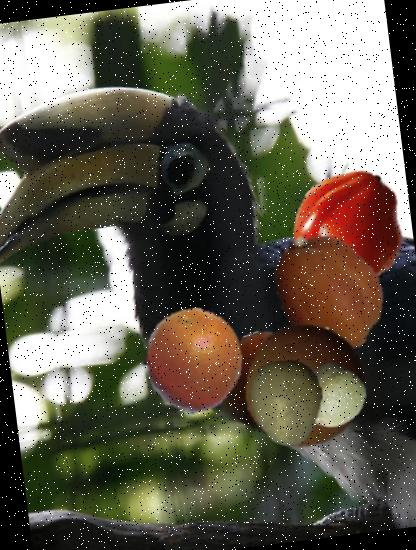Apricot: (260, 226, 396, 362)
Limes: (295, 360, 369, 434)
Nut: (206, 328, 313, 435)
Orange: (236, 317, 376, 456)
Pear: (235, 353, 340, 458)
Tangelo: (134, 301, 252, 420)
Tomato: (288, 163, 414, 290)
